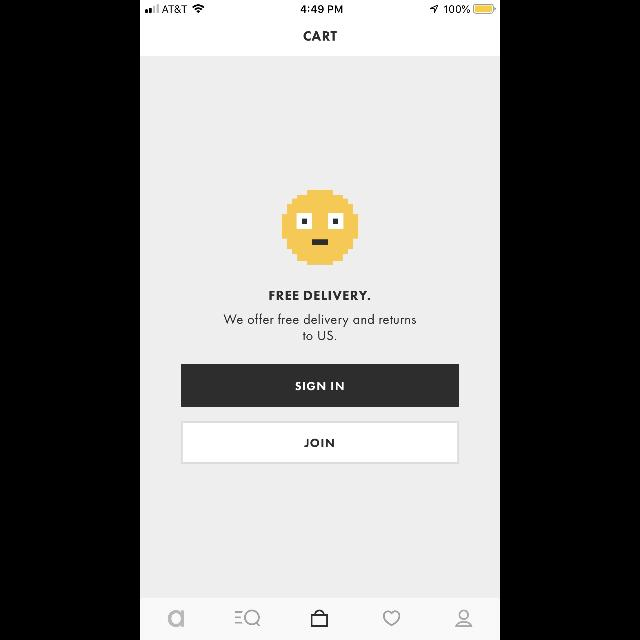icon: (236, 610, 260, 626), (310, 610, 328, 626), (384, 610, 401, 626), (456, 610, 472, 626)
image: (282, 190, 358, 264)
text: (224, 314, 416, 341), (270, 291, 370, 301), (304, 31, 336, 41), (168, 610, 185, 628)
textbutton: (181, 364, 459, 408), (181, 422, 459, 464)
uppertaskbar: (140, 0, 500, 14)
